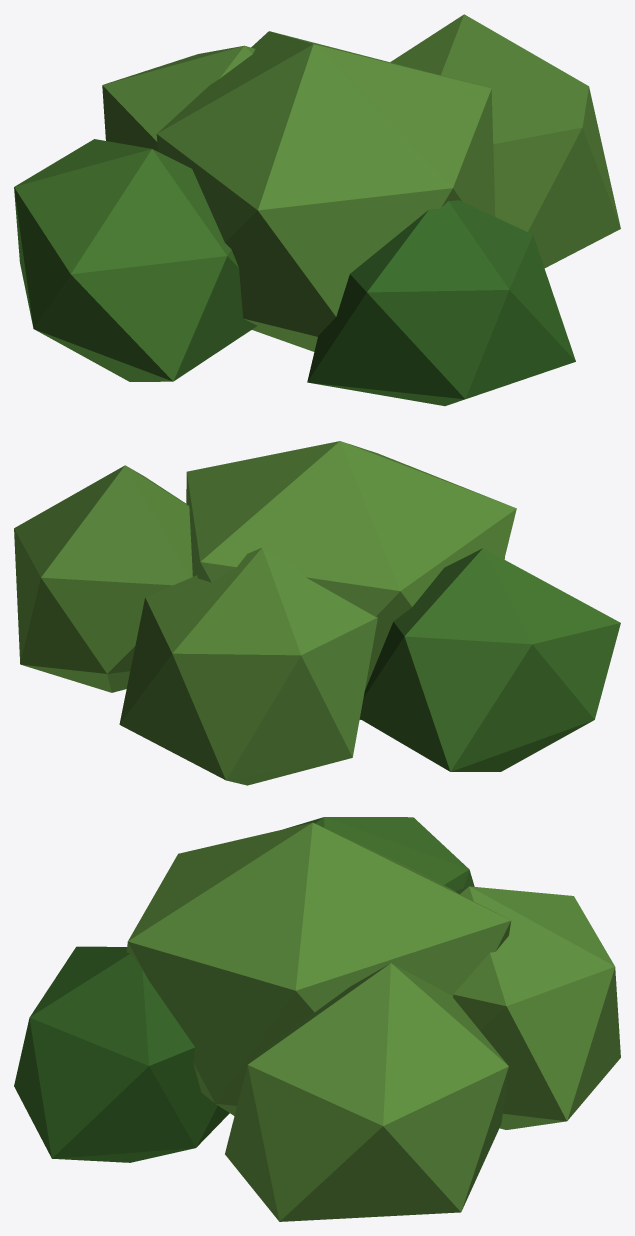
The model's file is bush_1.glb.
The picture shows the model from 3 angles, top to bottom: view 1: azimuth 30°, elevation 25°; view 2: azimuth 150°, elevation 25°; view 3: azimuth 270°, elevation 25°; orthographic projection. The views are drawn at different scales.
Visible parts, largest first — view 1: Bush1; view 2: Bush1; view 3: Bush1.
Part boxes in pixels (bbox=[...]): Bush1: bbox=[14, 14, 620, 406]; Bush1: bbox=[14, 441, 620, 785]; Bush1: bbox=[14, 817, 620, 1221].
Size of the model in its own units: 0.9776 by 0.5899 by 0.8515.
